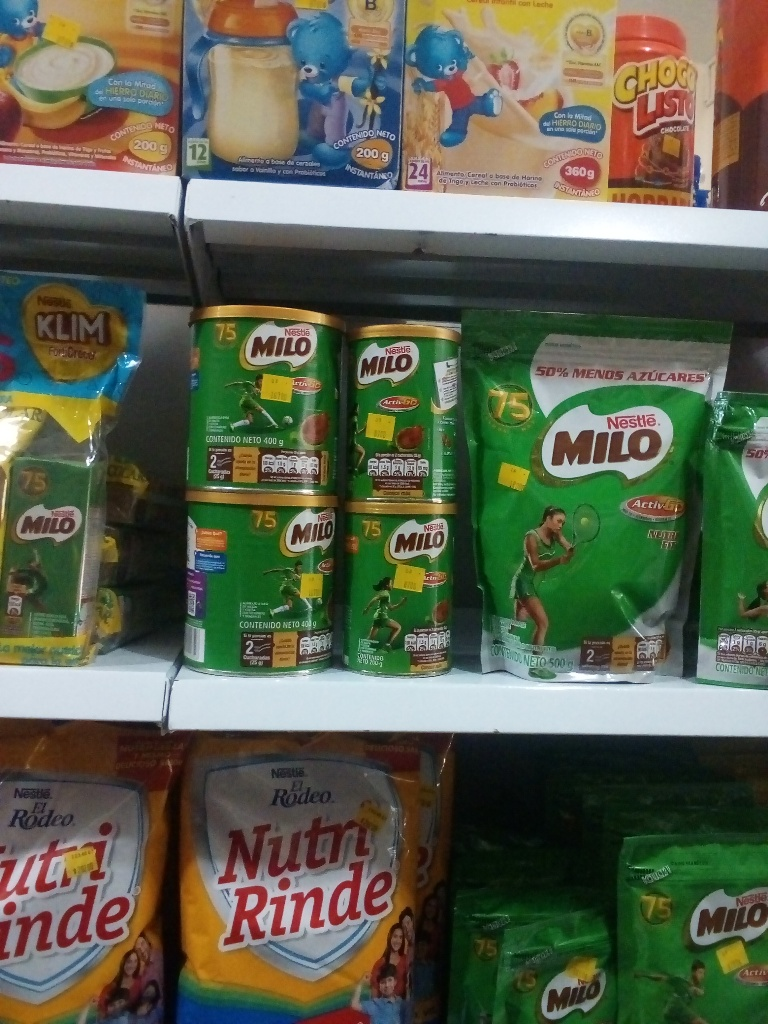COL0170103TRR00100: (614, 14, 696, 206)
COL0170203LAT20000: (338, 325, 460, 499)
COL0170203LAT40000: (180, 306, 349, 496)
COL0170205DYP50000: (456, 306, 717, 686)
